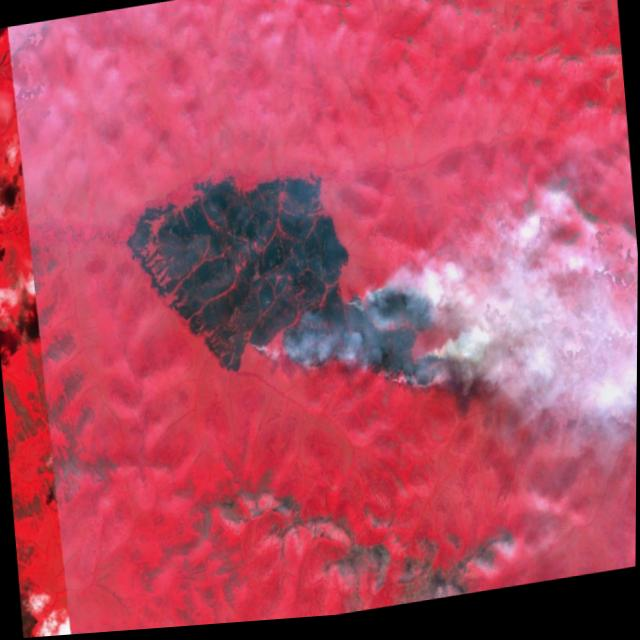fire: (273, 266, 453, 423)
